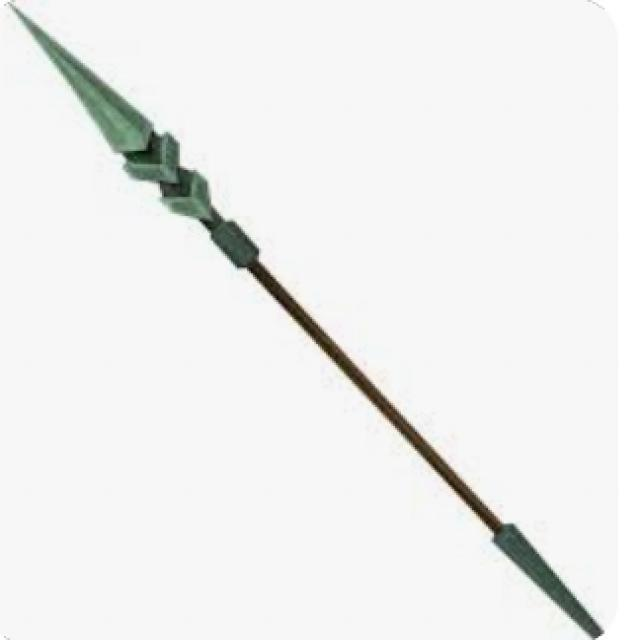spear: (4, 0, 613, 636)
